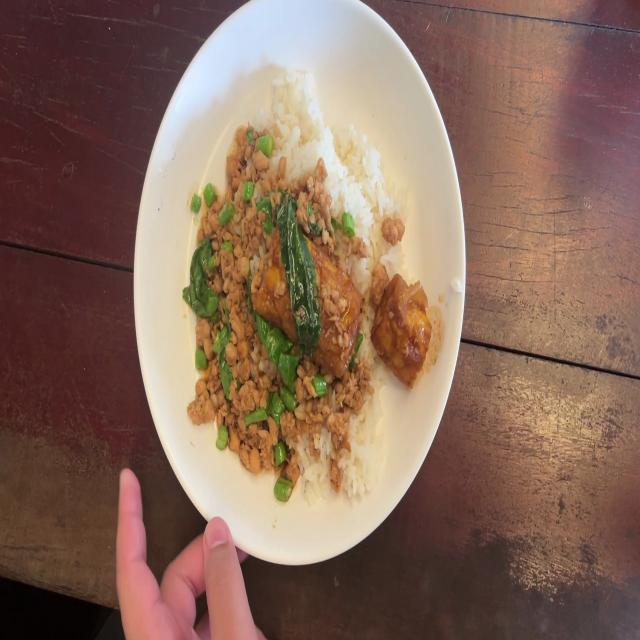01rice: (272, 72, 336, 176), (330, 127, 392, 230), (352, 413, 378, 498)
fried_tofo: (257, 232, 355, 371), (379, 280, 428, 374)
minced_pork: (189, 175, 255, 462), (226, 124, 330, 240), (248, 340, 326, 465), (324, 372, 349, 484), (352, 357, 370, 408), (386, 224, 402, 242)
stir_fried_basil: (190, 72, 430, 502)
